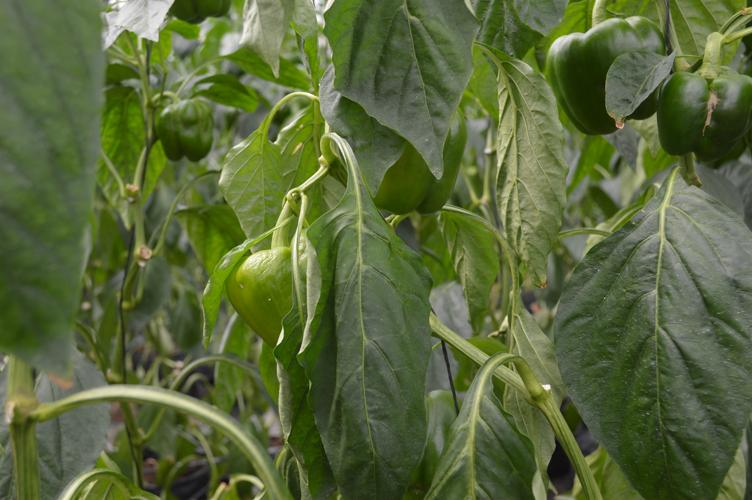BellPepper: (548, 16, 663, 139), (354, 111, 470, 217), (663, 72, 749, 169), (224, 251, 303, 344), (158, 101, 217, 166)
